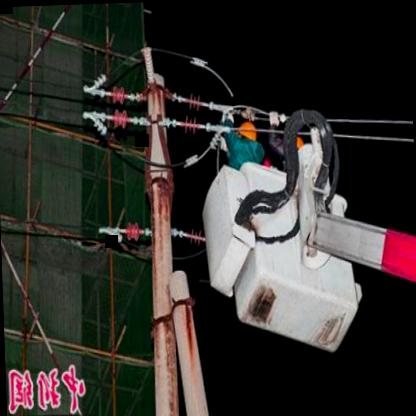helmet: (232, 114, 259, 148)
